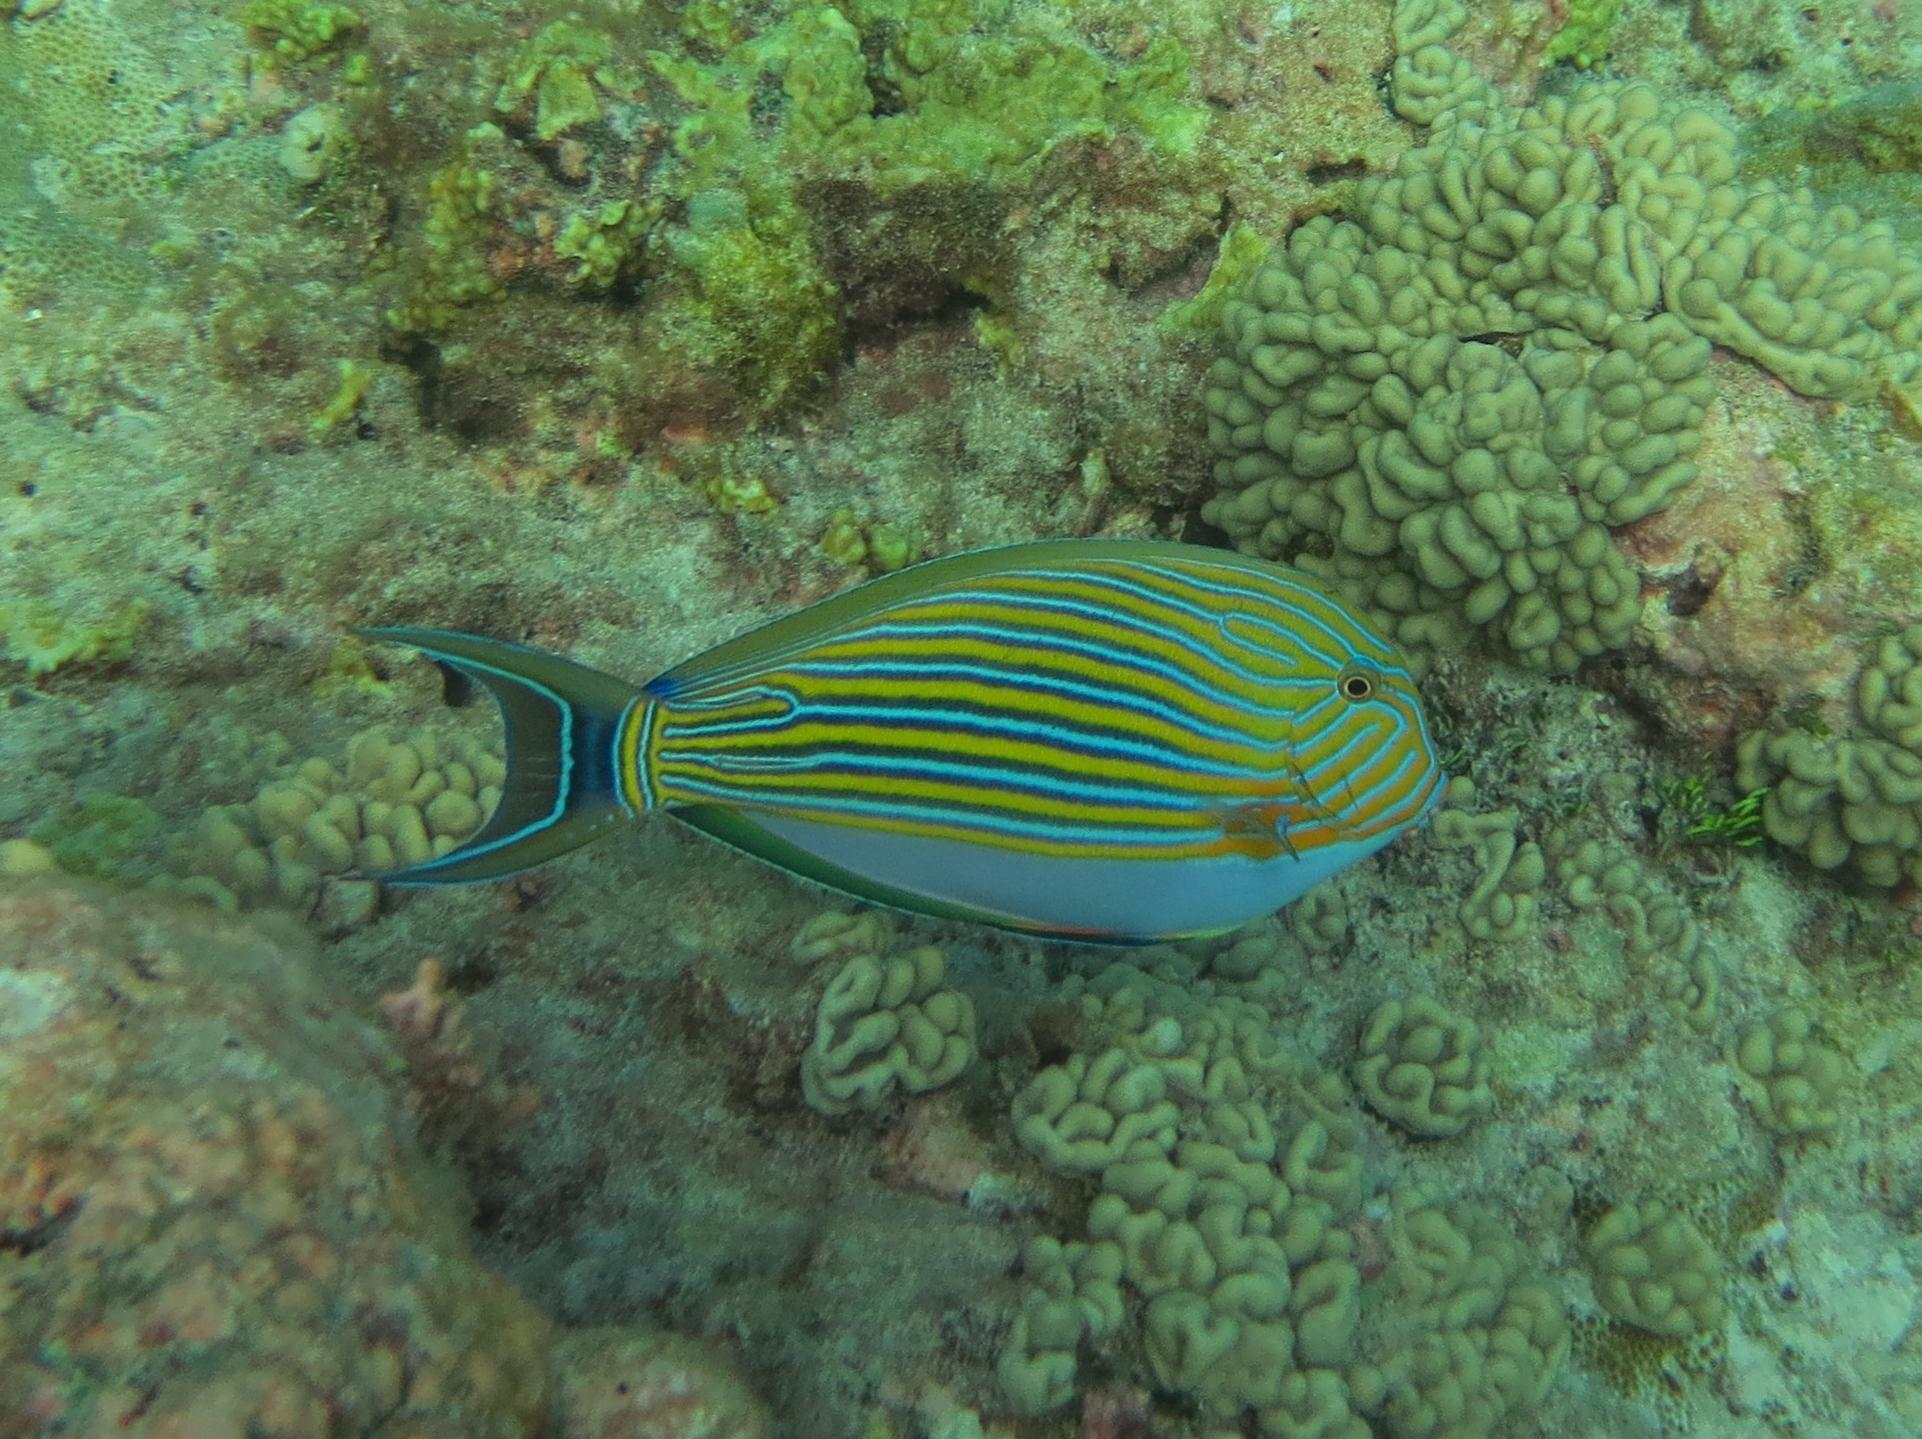Acanthurus lineatus: (252, 488, 1564, 1060)
